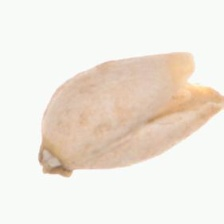L1: (177, 50, 224, 120), (36, 137, 75, 178)
L2: (36, 51, 222, 177)
